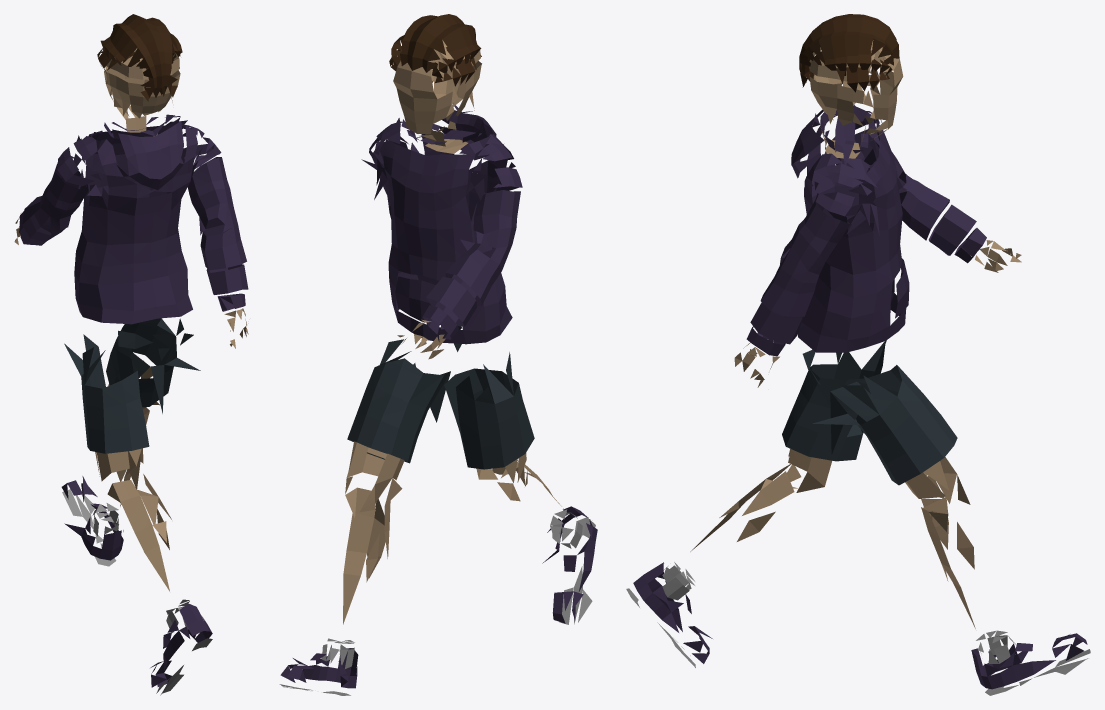
Rendered from person_11_w2.fbx.
3 renders of one model, left to right at view 1: azimuth 30°, elevation 25°; view 2: azimuth 150°, elevation 25°; view 3: azimuth 270°, elevation 25°, orthographic. The views are drawn at different scales.
Parts seen in each view (by area): view 1: Casual_Feet; view 2: Casual_Feet; view 3: Casual_Feet.
Part boxes in pixels (x1,y1,x2,y2): Casual_Feet: (14, 14, 248, 695); Casual_Feet: (279, 14, 597, 695); Casual_Feet: (626, 14, 1090, 695).
Bounding box in the file's own units: 0.2701 × 1 × 0.6238.
